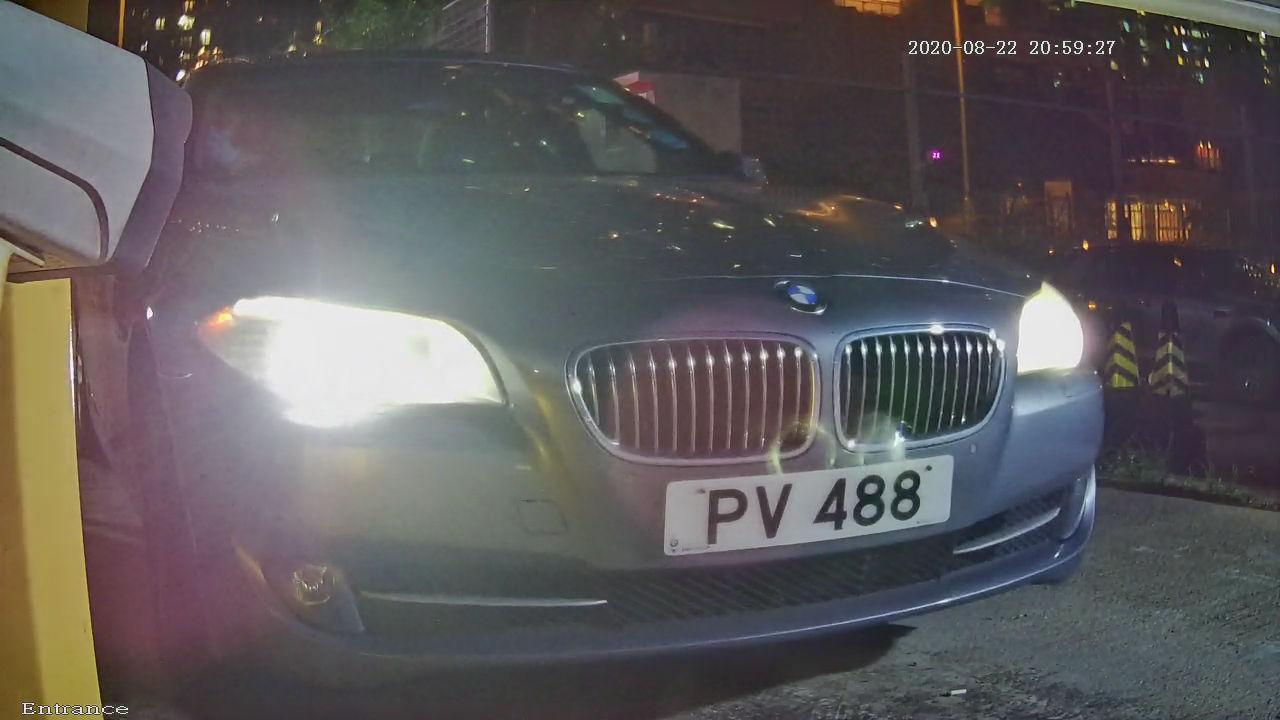License Plate: (586, 380, 1040, 635)
